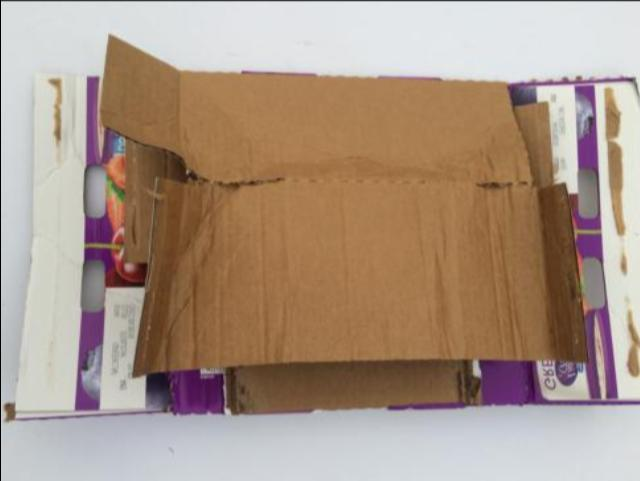cardboard paper: (103, 34, 586, 372)
